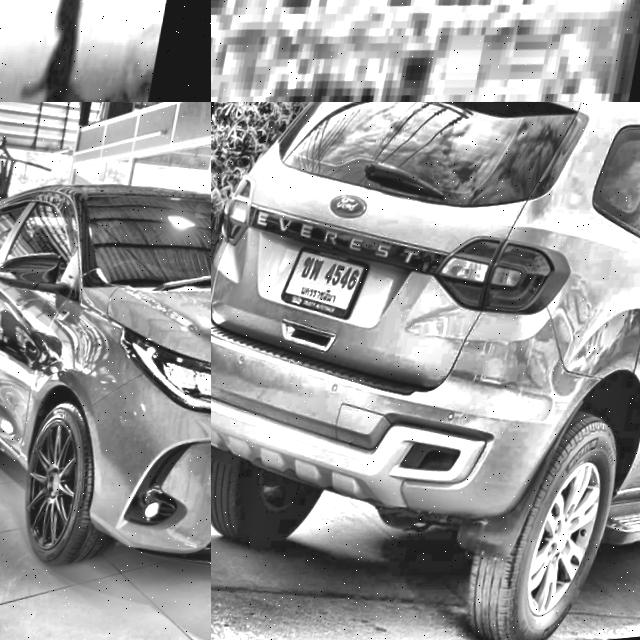license-plate: (211, 0, 640, 102), (0, 0, 211, 102), (280, 234, 382, 331)
